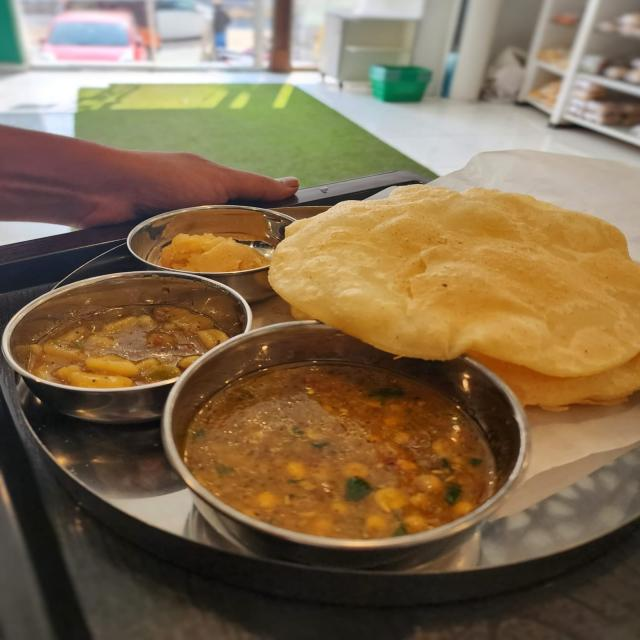poori: (259, 176, 640, 376)
